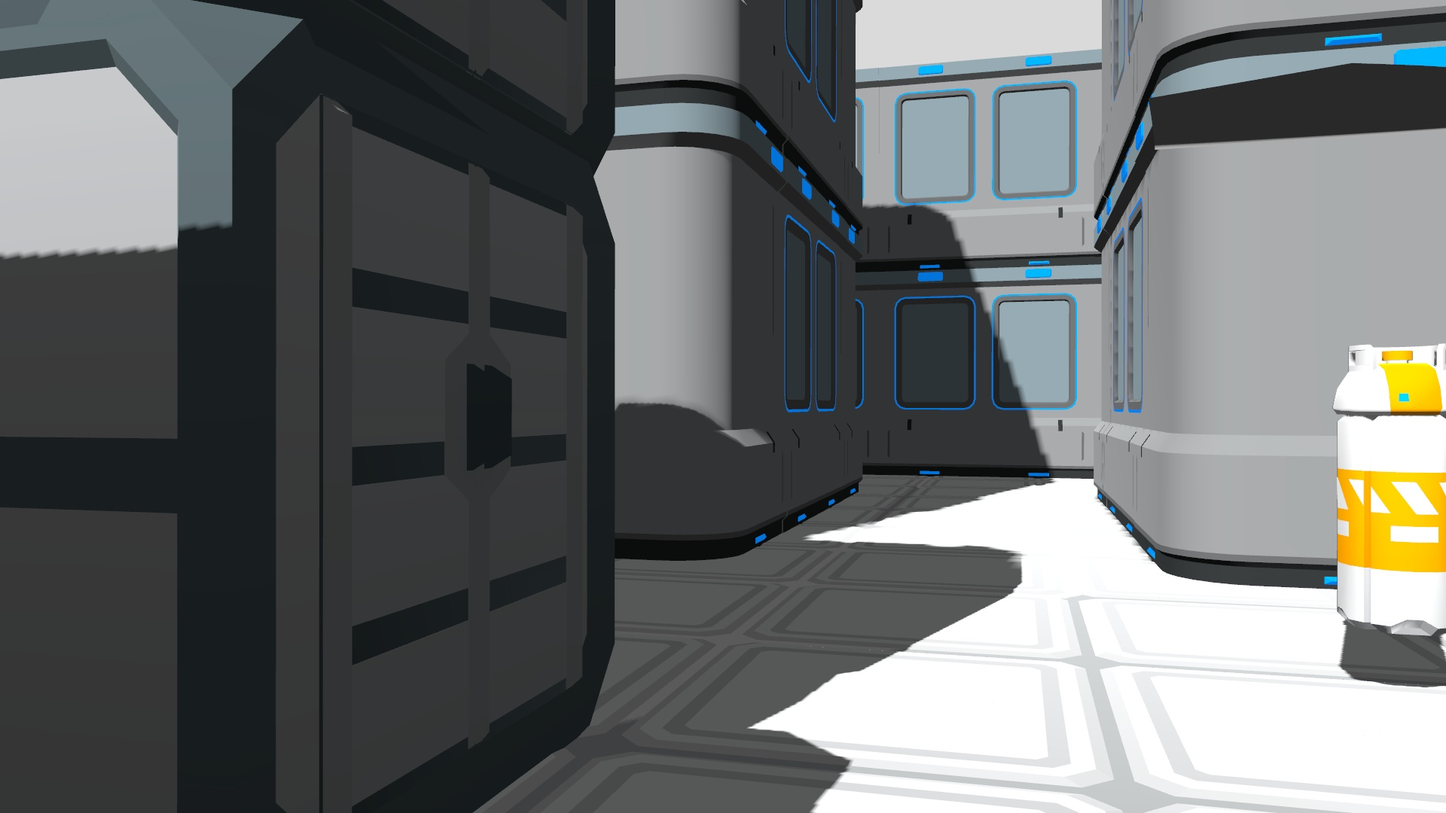yellow_barrel: (1328, 335, 1446, 650)
